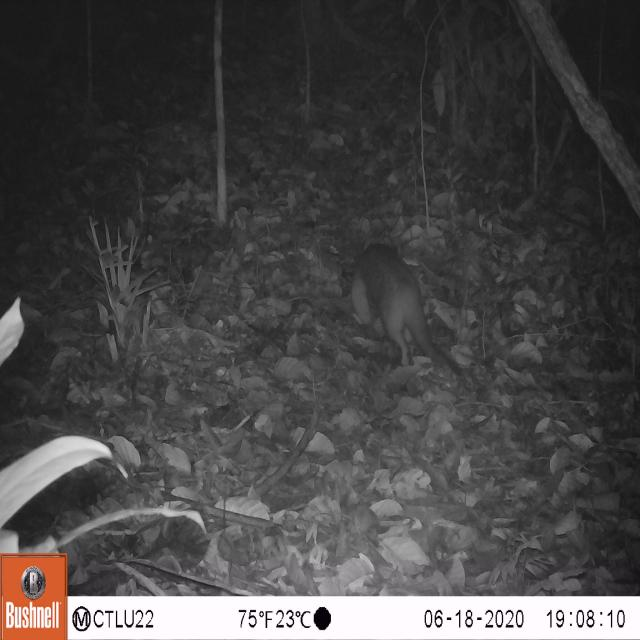Southern Tamandua: (356, 241, 464, 375)
